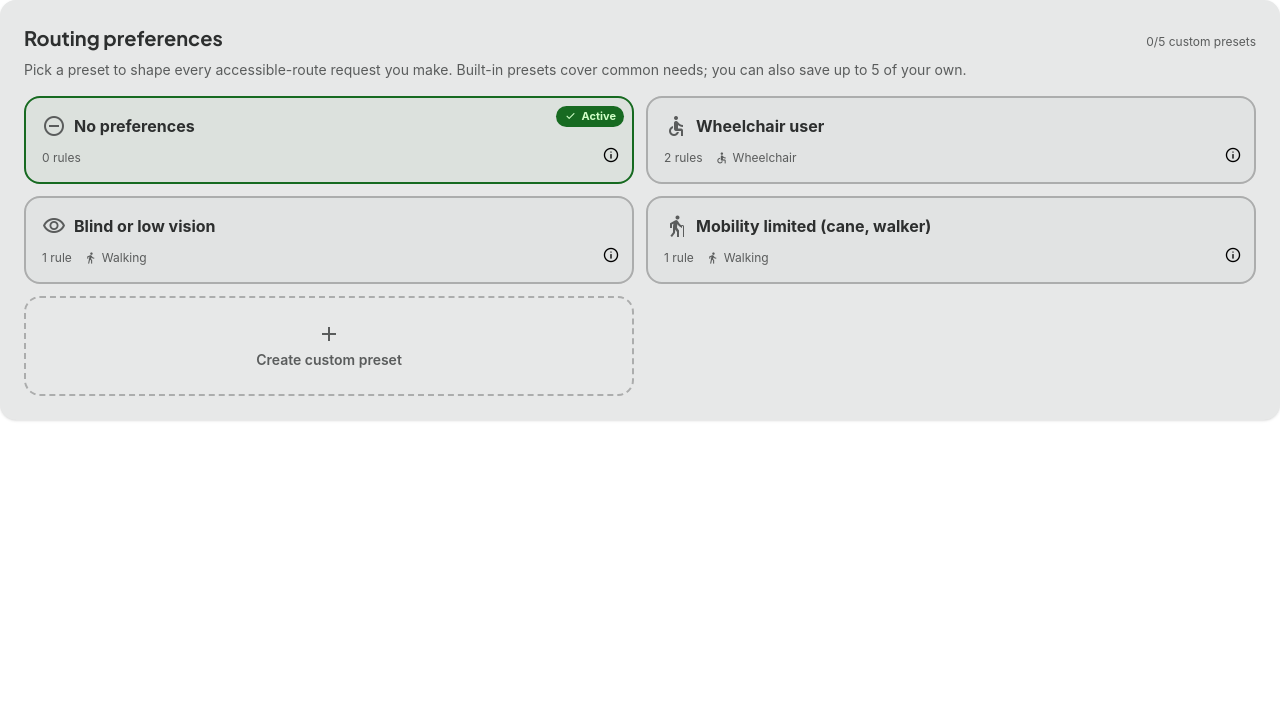
Scenario: RoutingPreferencesSection › shows constraint details when info button is clicked on a built-in preset
This screenshot has width=1280, height=720.
Click the button named "view wheelchair user details".
click(1233, 158)  # box [1220,142,1246,174]
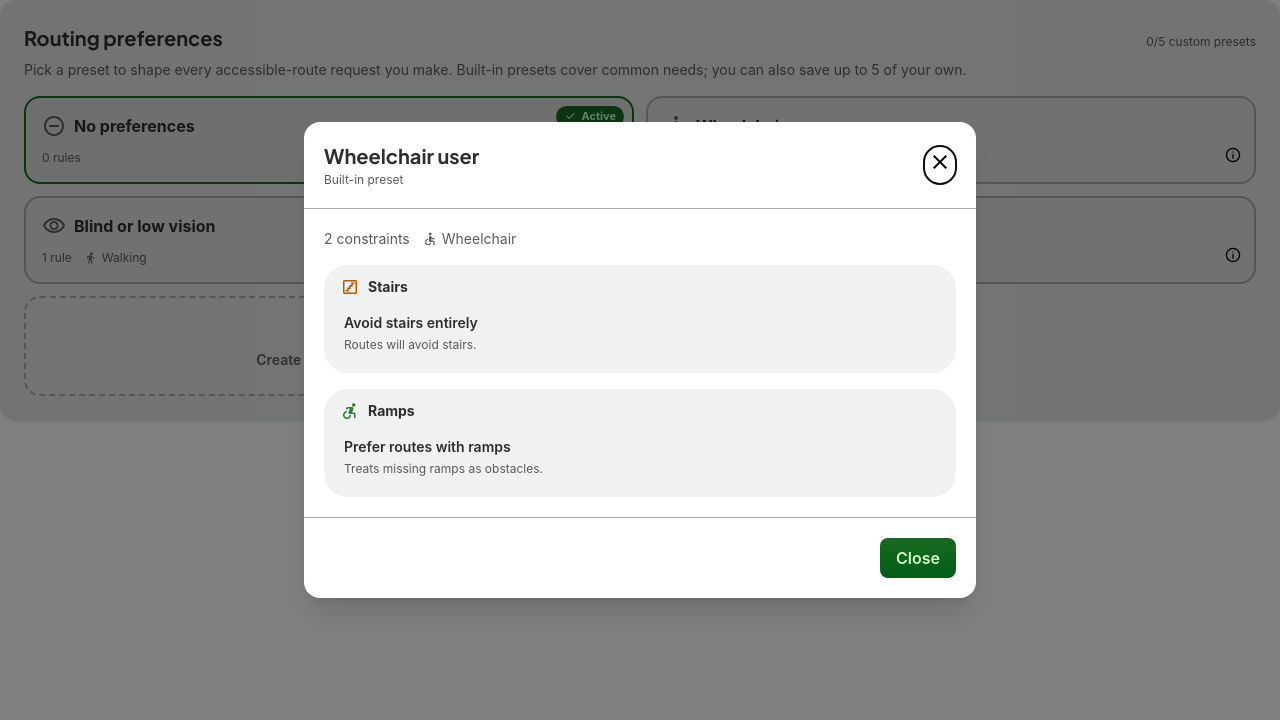
Check: the text "Avoid stairs entirely" is shown, box [344,313,478,333]
Check: the text "Prefer routes with ramps" is shown, box [344,437,511,457]
